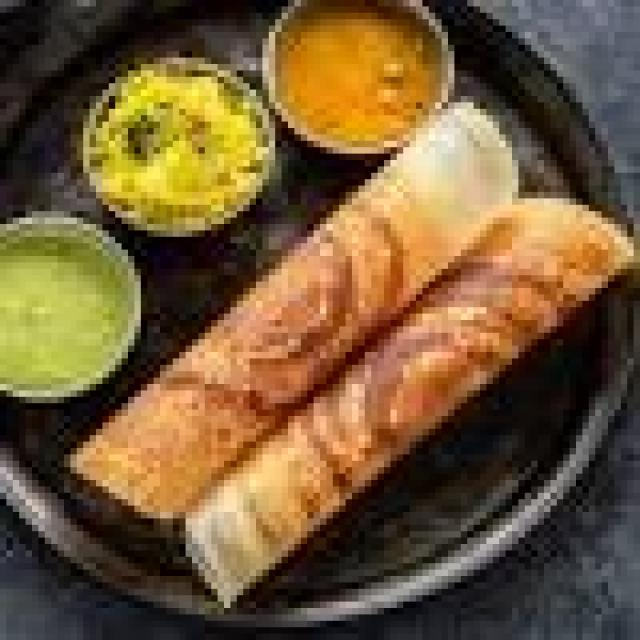Wet Waste: (64, 96, 531, 550), (166, 186, 608, 608), (0, 211, 134, 390)
